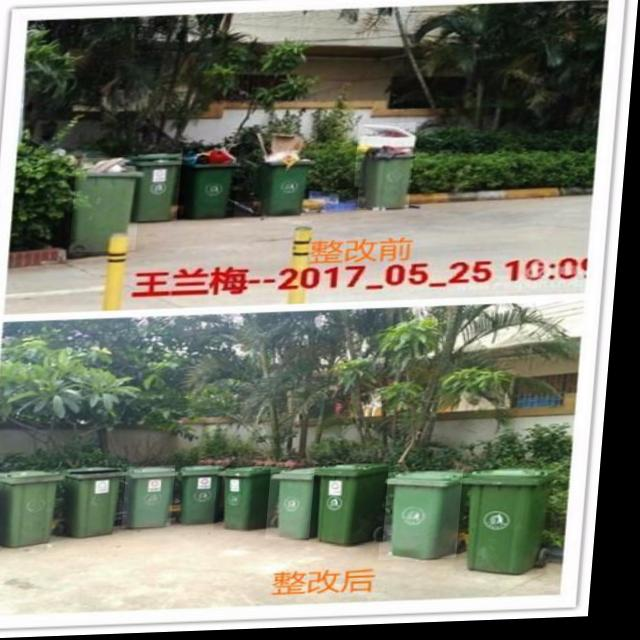garbage: (303, 190, 362, 216)
garbage_bin: (463, 471, 564, 581), (388, 473, 472, 564), (319, 465, 398, 549), (0, 469, 72, 548), (69, 466, 131, 538), (222, 467, 289, 533), (275, 470, 330, 542), (137, 154, 185, 223), (131, 467, 184, 529), (182, 465, 232, 526)
overflow: (73, 157, 146, 254), (253, 132, 320, 218), (356, 126, 418, 212), (181, 147, 242, 221)
